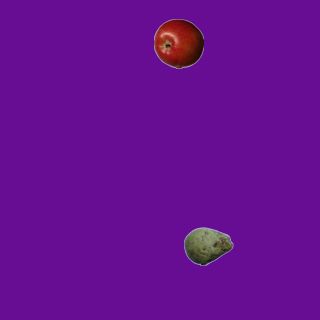Apple Braeburn: (153, 18, 203, 68)
Pear Stone: (183, 221, 233, 271)
